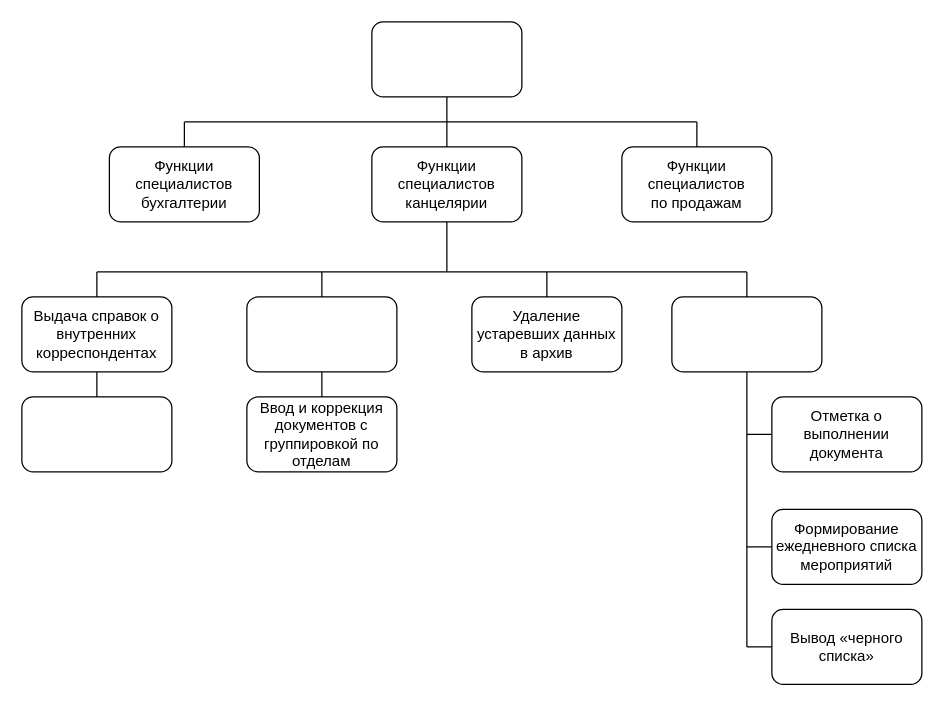
This 944x706 diagram has some shape labels left out. The centre of each missing label's shape, as x and y in pixels:
"Ввод, коррекция и вывод справочника" belongs at (96,434).
"Контроль исполнения" belongs at (746,334).
"Регистрация внутренних документов" belongs at (321,334).
"Руководство" belongs at (446,59).
